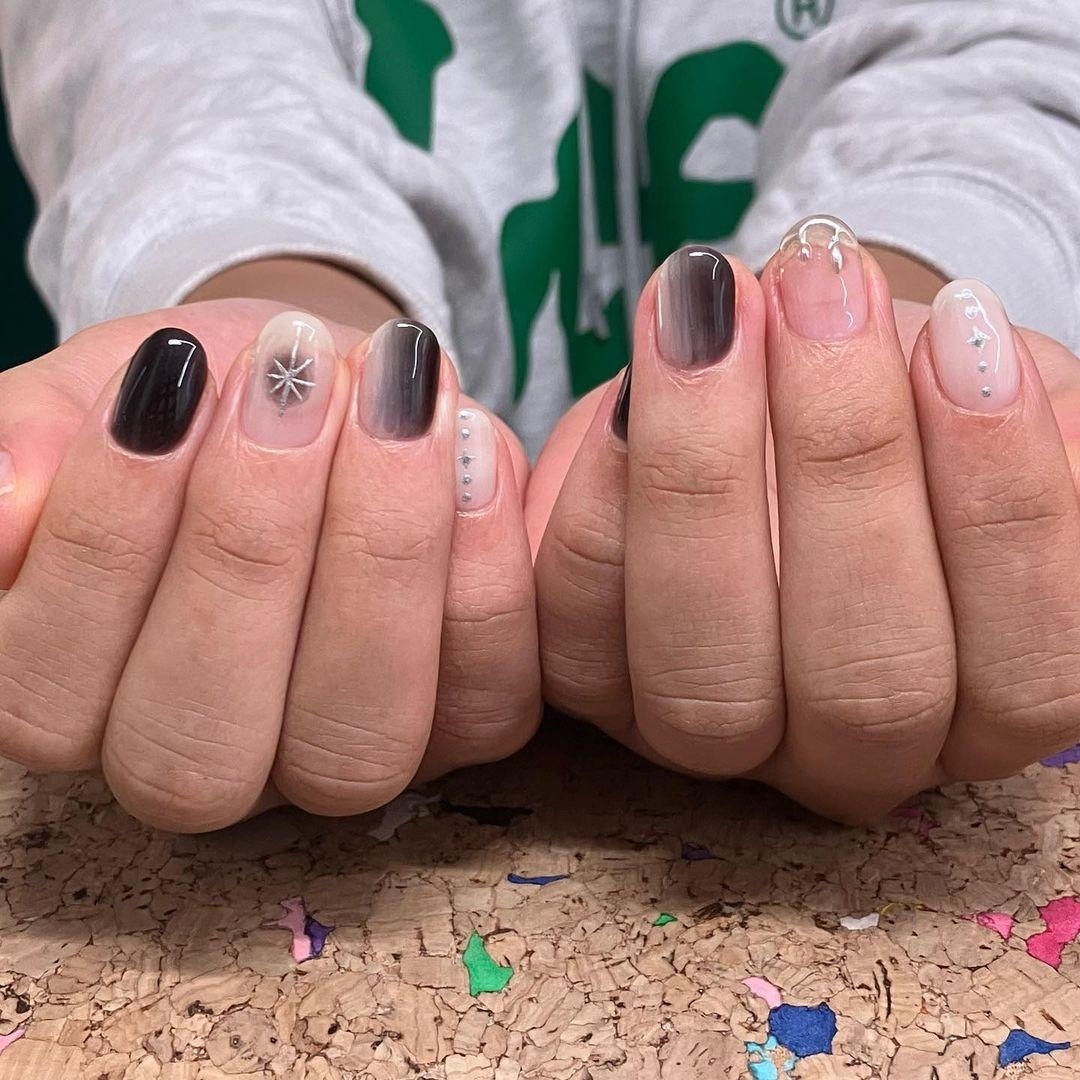nail: (239, 309, 337, 450), (105, 325, 208, 458), (926, 276, 1022, 414), (772, 214, 869, 343), (356, 317, 440, 442), (653, 243, 736, 369), (454, 406, 497, 512)
